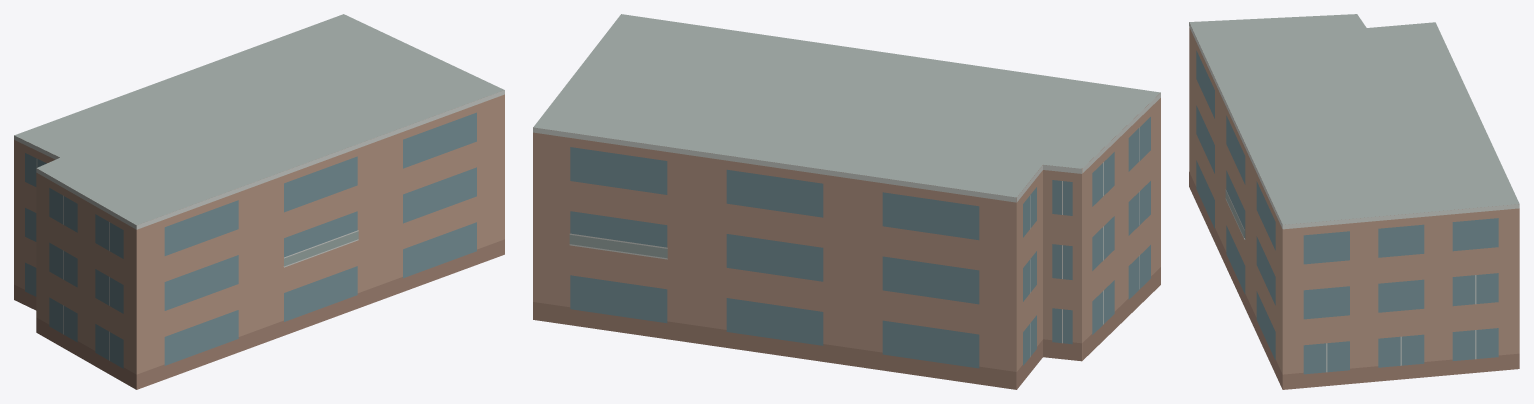
Rendered from survey-upis-32813368.glb.
3 views of the same model, side by side, from view 1: azimuth 30°, elevation 25°; view 2: azimuth 150°, elevation 25°; view 3: azimuth 270°, elevation 25° (orthographic). The views are drawn at different scales.
Parts seen in each view (by area): view 1: survey-upis-32813368.tmp; view 2: survey-upis-32813368.tmp; view 3: survey-upis-32813368.tmp.
Part boxes in pixels (x1,y1,x2,y2): survey-upis-32813368.tmp: (14, 14, 504, 389); survey-upis-32813368.tmp: (533, 14, 1160, 389); survey-upis-32813368.tmp: (1189, 14, 1519, 389).
Bounding box in the file's own units: 25.11 × 9.15 × 16.63.
